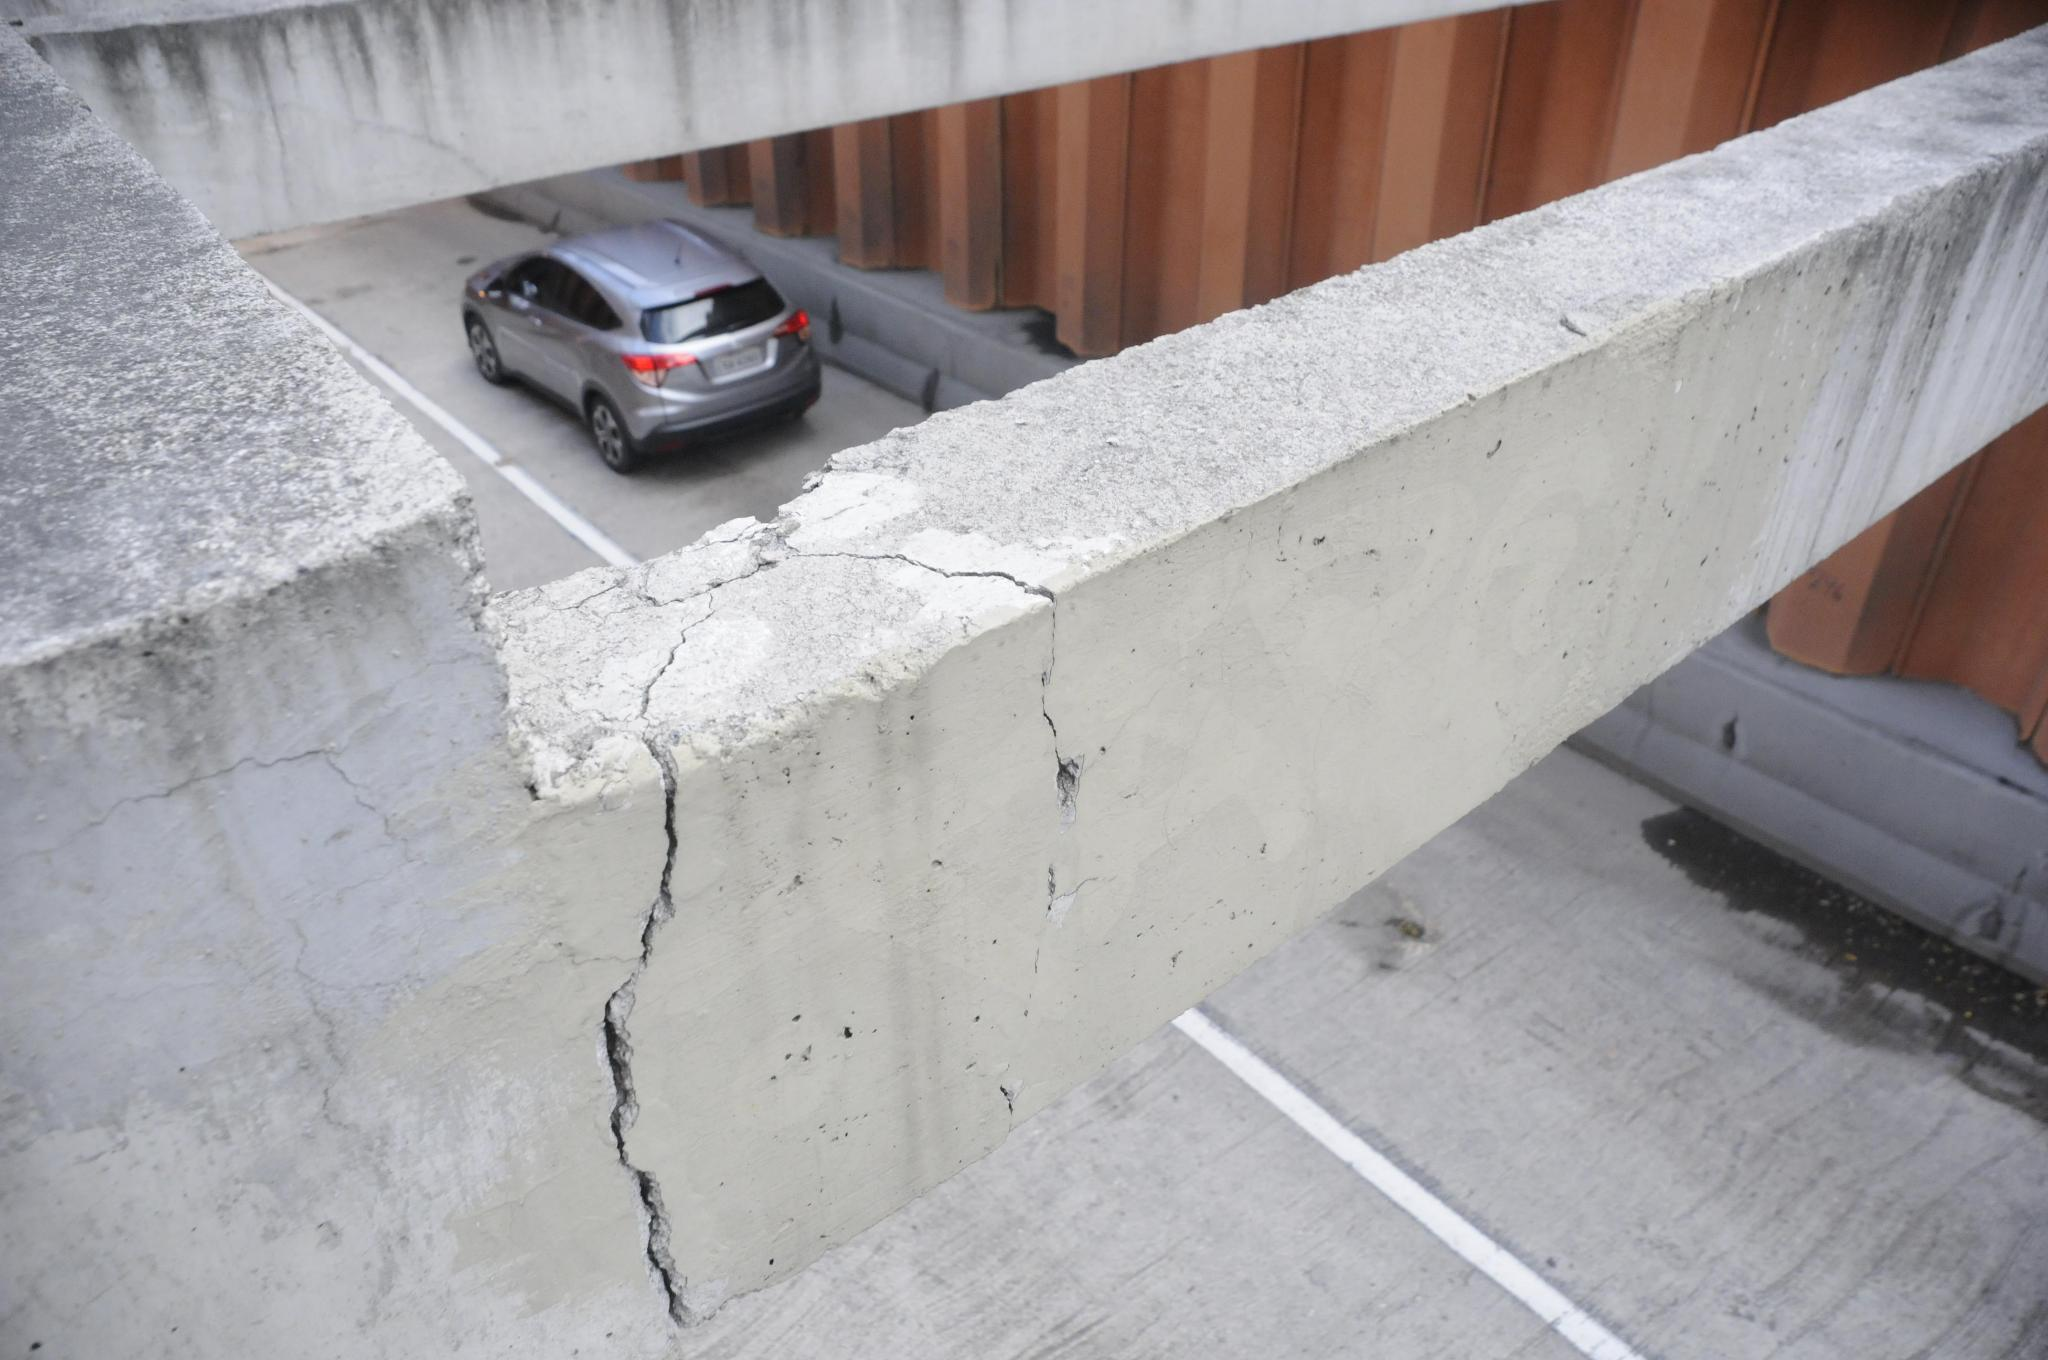crack: (601, 739, 698, 1327), (798, 551, 1057, 688), (90, 724, 367, 826), (326, 753, 428, 891), (634, 592, 716, 738), (290, 918, 422, 993), (532, 654, 633, 724), (306, 991, 349, 1132), (690, 562, 777, 598), (1045, 864, 1100, 918), (683, 521, 760, 552), (551, 586, 616, 610), (1041, 695, 1062, 763), (1000, 1078, 1027, 1116), (596, 607, 634, 628), (822, 502, 866, 521), (739, 524, 769, 545), (416, 903, 428, 955), (637, 595, 684, 607), (1035, 949, 1039, 973), (1009, 1123, 1012, 1132)
damage: (749, 507, 801, 572), (1056, 757, 1083, 826), (801, 455, 836, 493)
